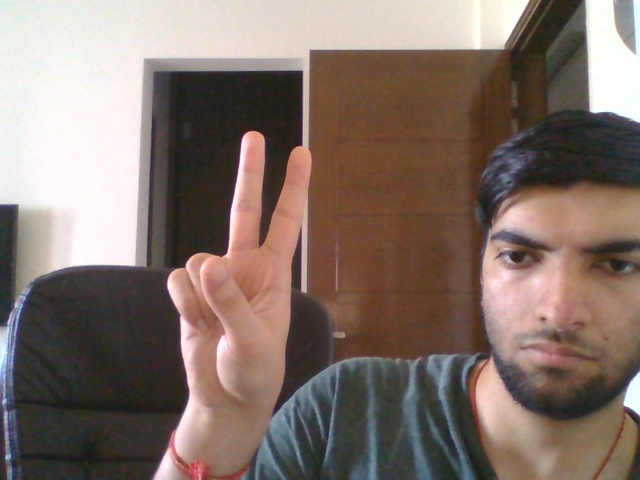LetterV: (165, 128, 314, 414)
